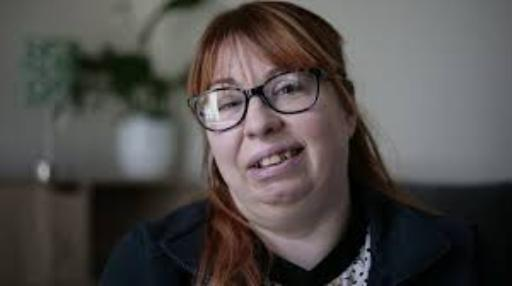left_eye: (274, 87, 308, 98)
left_lip_corner: (291, 145, 310, 159)
right_eye: (220, 100, 244, 112)
right_lip_corner: (244, 163, 259, 175)
